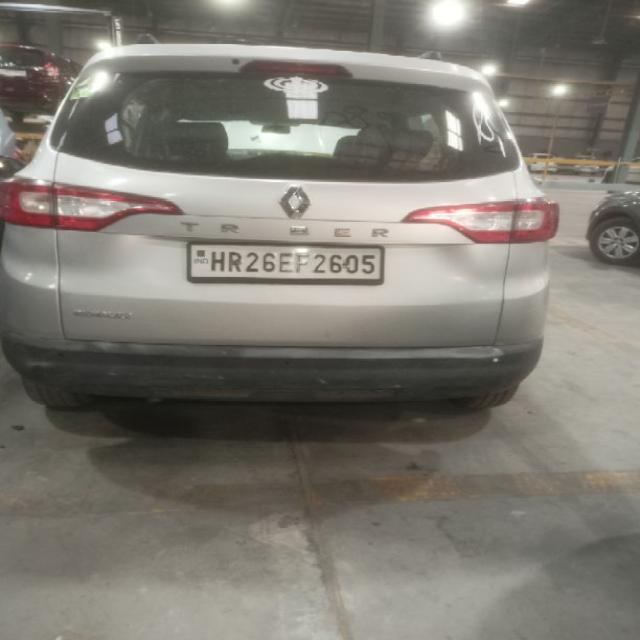license_plate: (185, 242, 385, 284)
